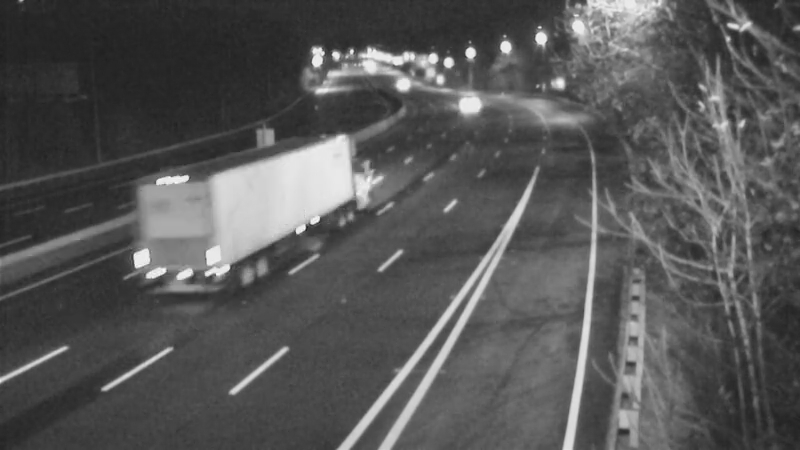vehicle: (198, 172, 278, 252), (375, 59, 425, 109), (439, 75, 489, 125)
